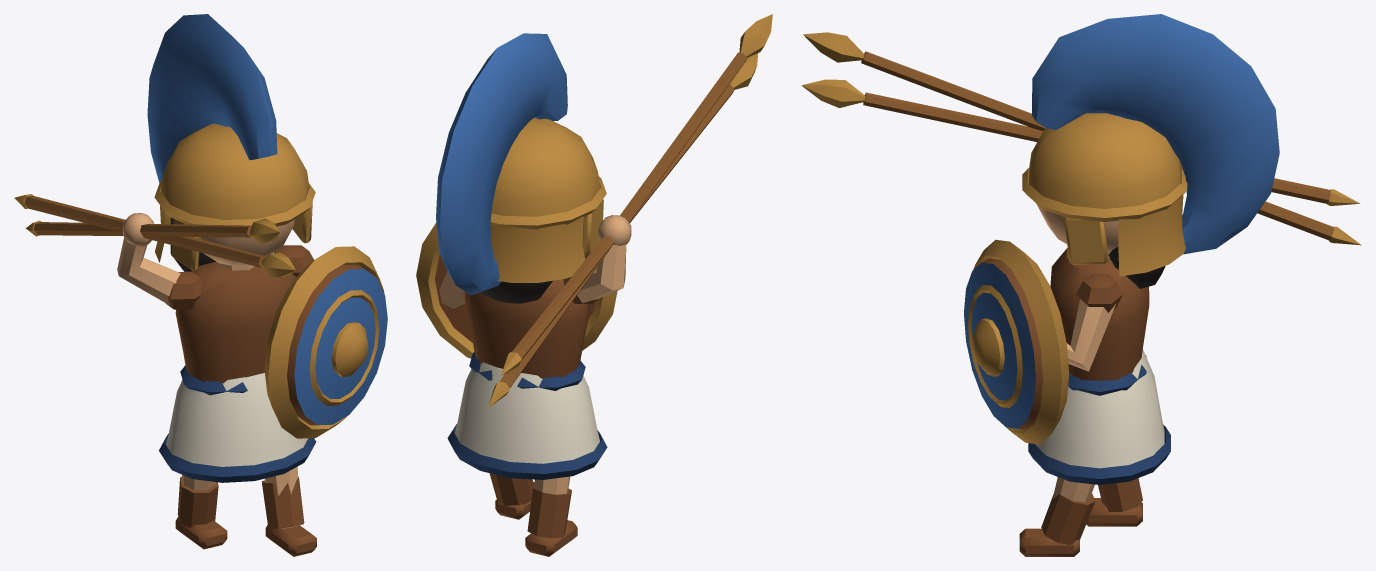
File: antilochus.glb
3 views of the same model, side by side, from view 1: azimuth 30°, elevation 25°; view 2: azimuth 150°, elevation 25°; view 3: azimuth 270°, elevation 25° (orthographic). The views are drawn at different scales.
Visible parts, largest first — view 1: antilochus; view 2: antilochus; view 3: antilochus.
Boxes of the visible parts, x1,y1,x2,y2 form: antilochus: (14, 14, 387, 556); antilochus: (416, 14, 772, 556); antilochus: (801, 14, 1361, 556).
Bounding box in the file's own units: 0.4079 × 0.8187 × 0.7957.
